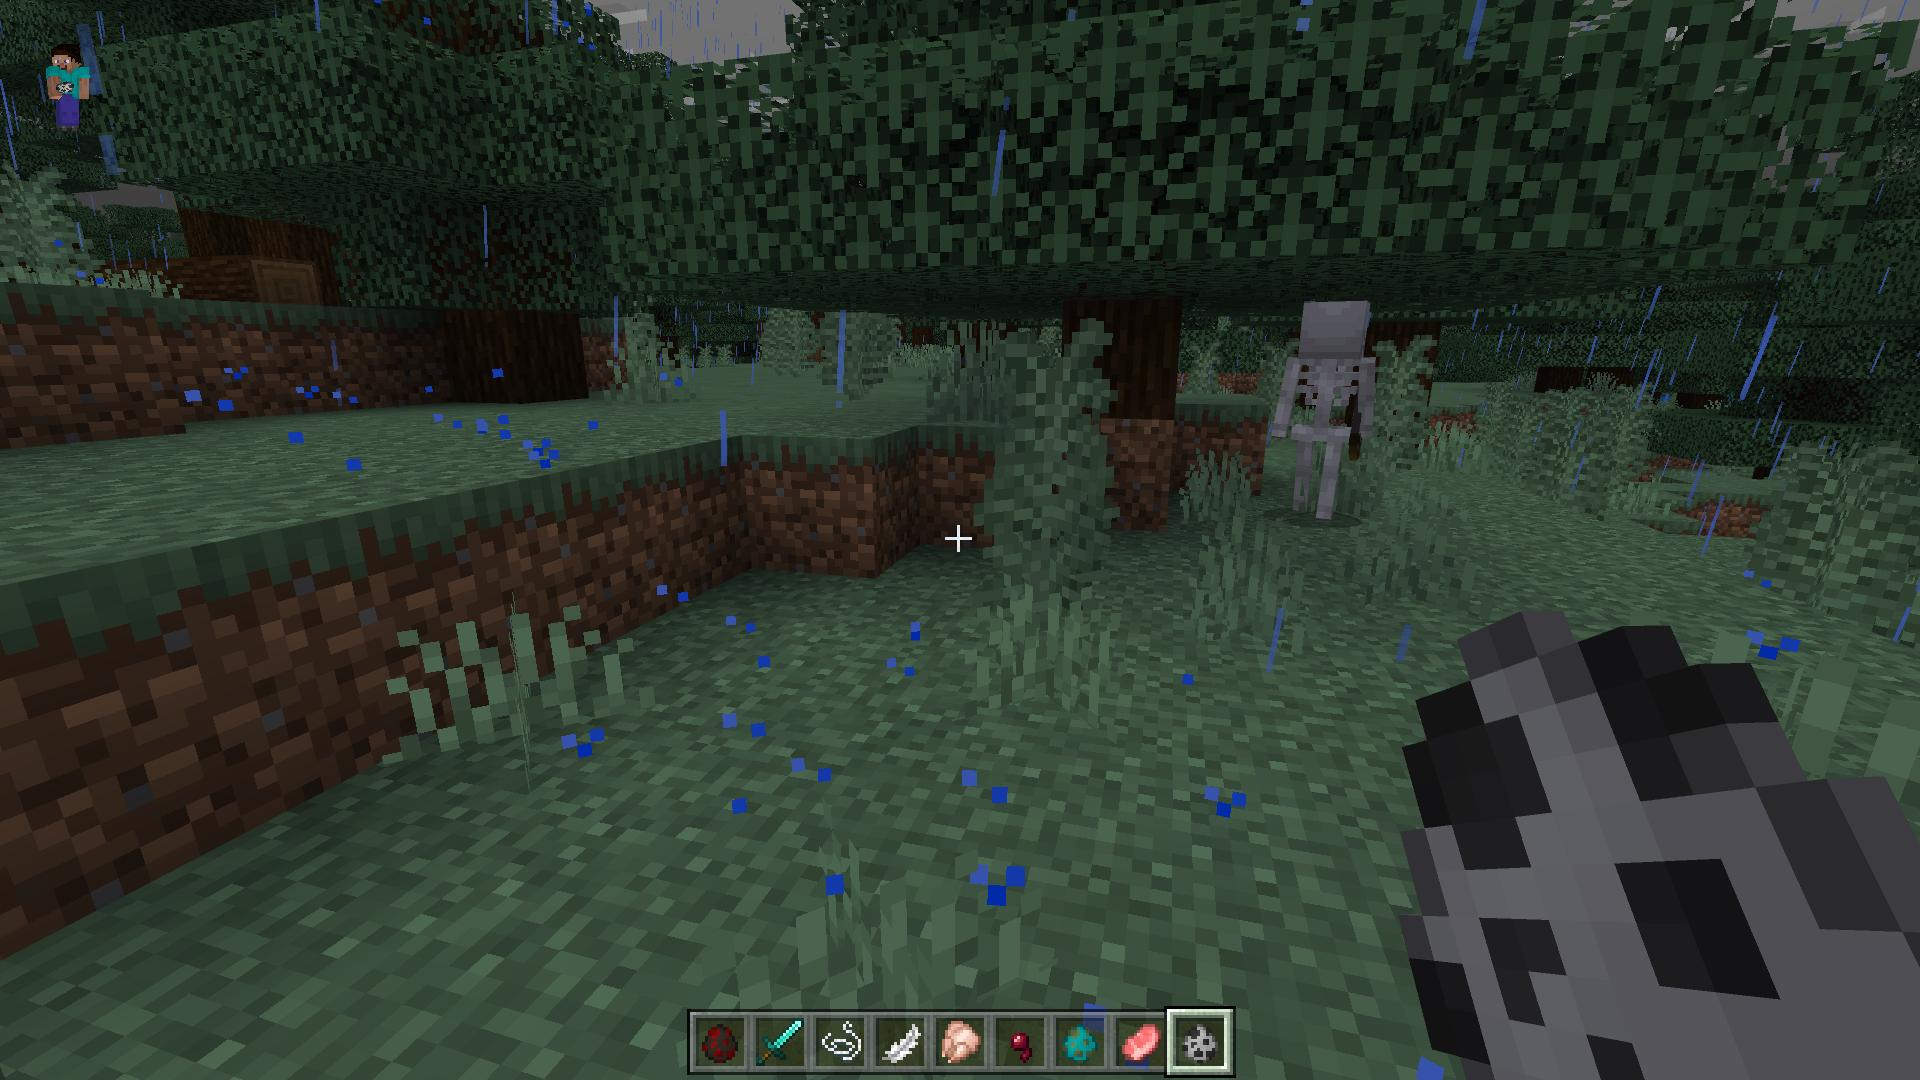skeleton: (1270, 285, 1371, 520)
